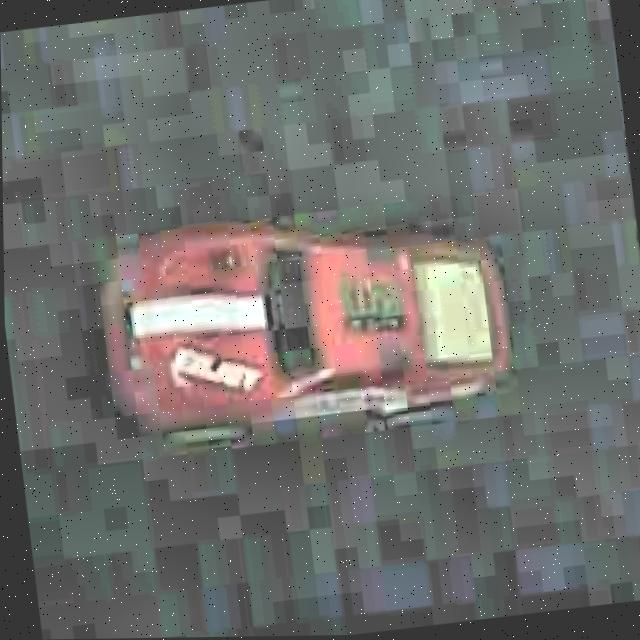car: (82, 190, 528, 471)
